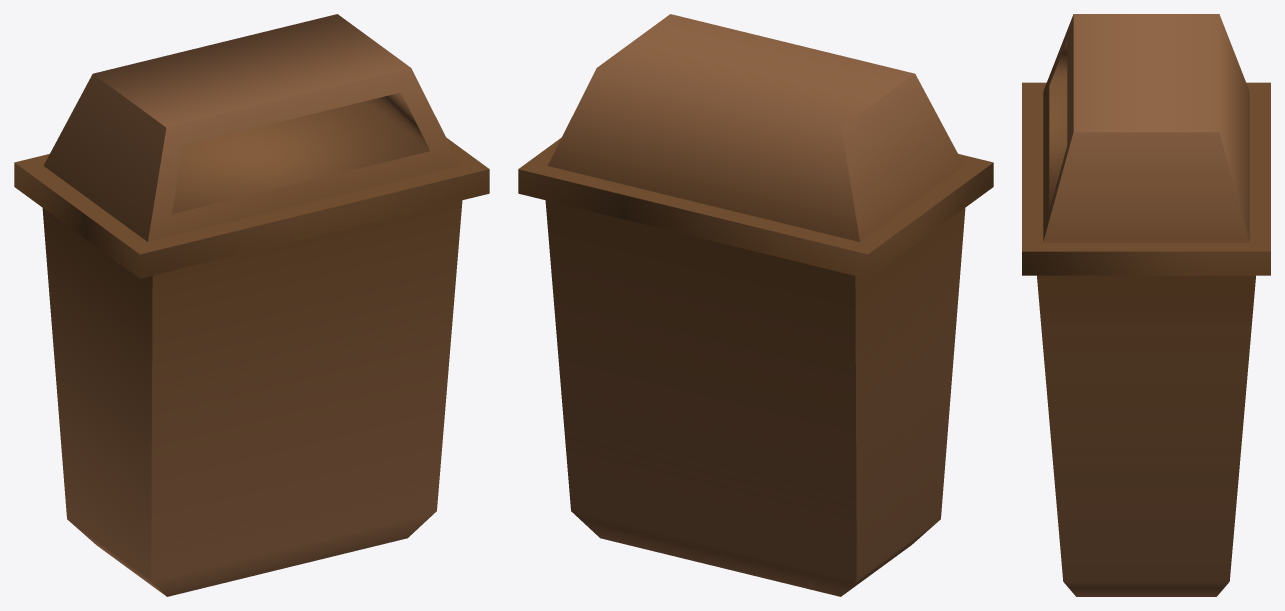
The model's file is Lixeira_Org.fbx.
3 views of the same model, side by side, from view 1: azimuth 30°, elevation 25°; view 2: azimuth 150°, elevation 25°; view 3: azimuth 270°, elevation 25° (orthographic).
Parts seen in each view (by area): view 1: Lixeira_Org; view 2: Lixeira_Org; view 3: Lixeira_Org.
Boxes of the visible parts, x1=… form: Lixeira_Org: x1=14, y1=14, x2=489, y2=596; Lixeira_Org: x1=518, y1=14, x2=993, y2=596; Lixeira_Org: x1=1022, y1=14, x2=1270, y2=596.
Bounding box in the file's own units: 14.2 × 18.27 × 8.84.
